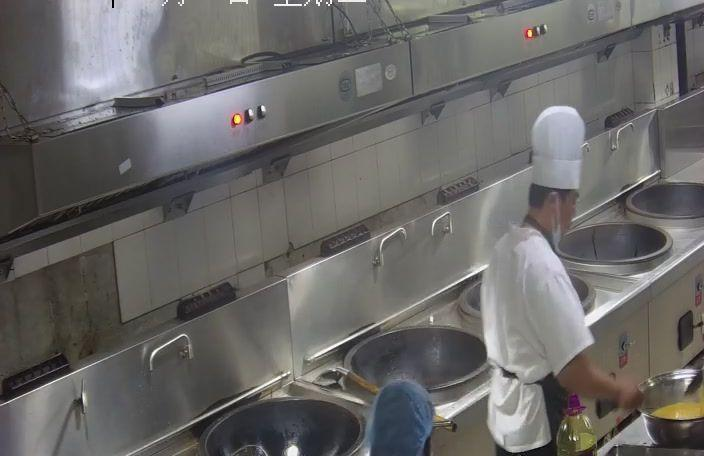mask: (550, 195, 580, 235)
